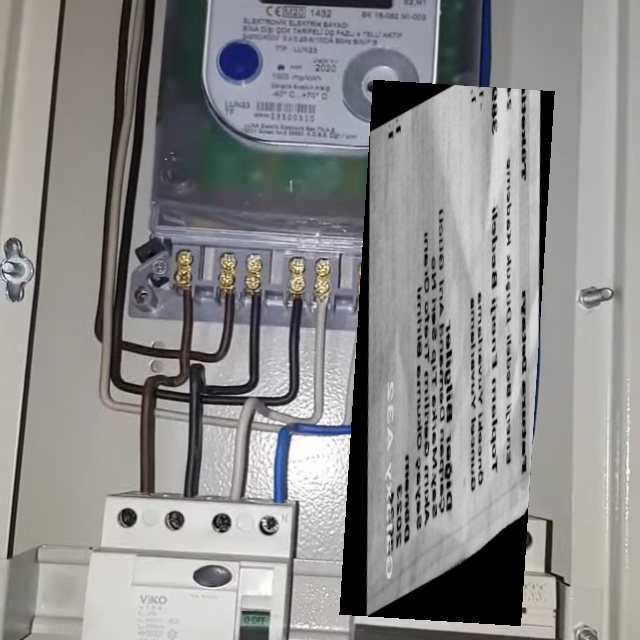electricity-bill: (338, 79, 554, 625)
